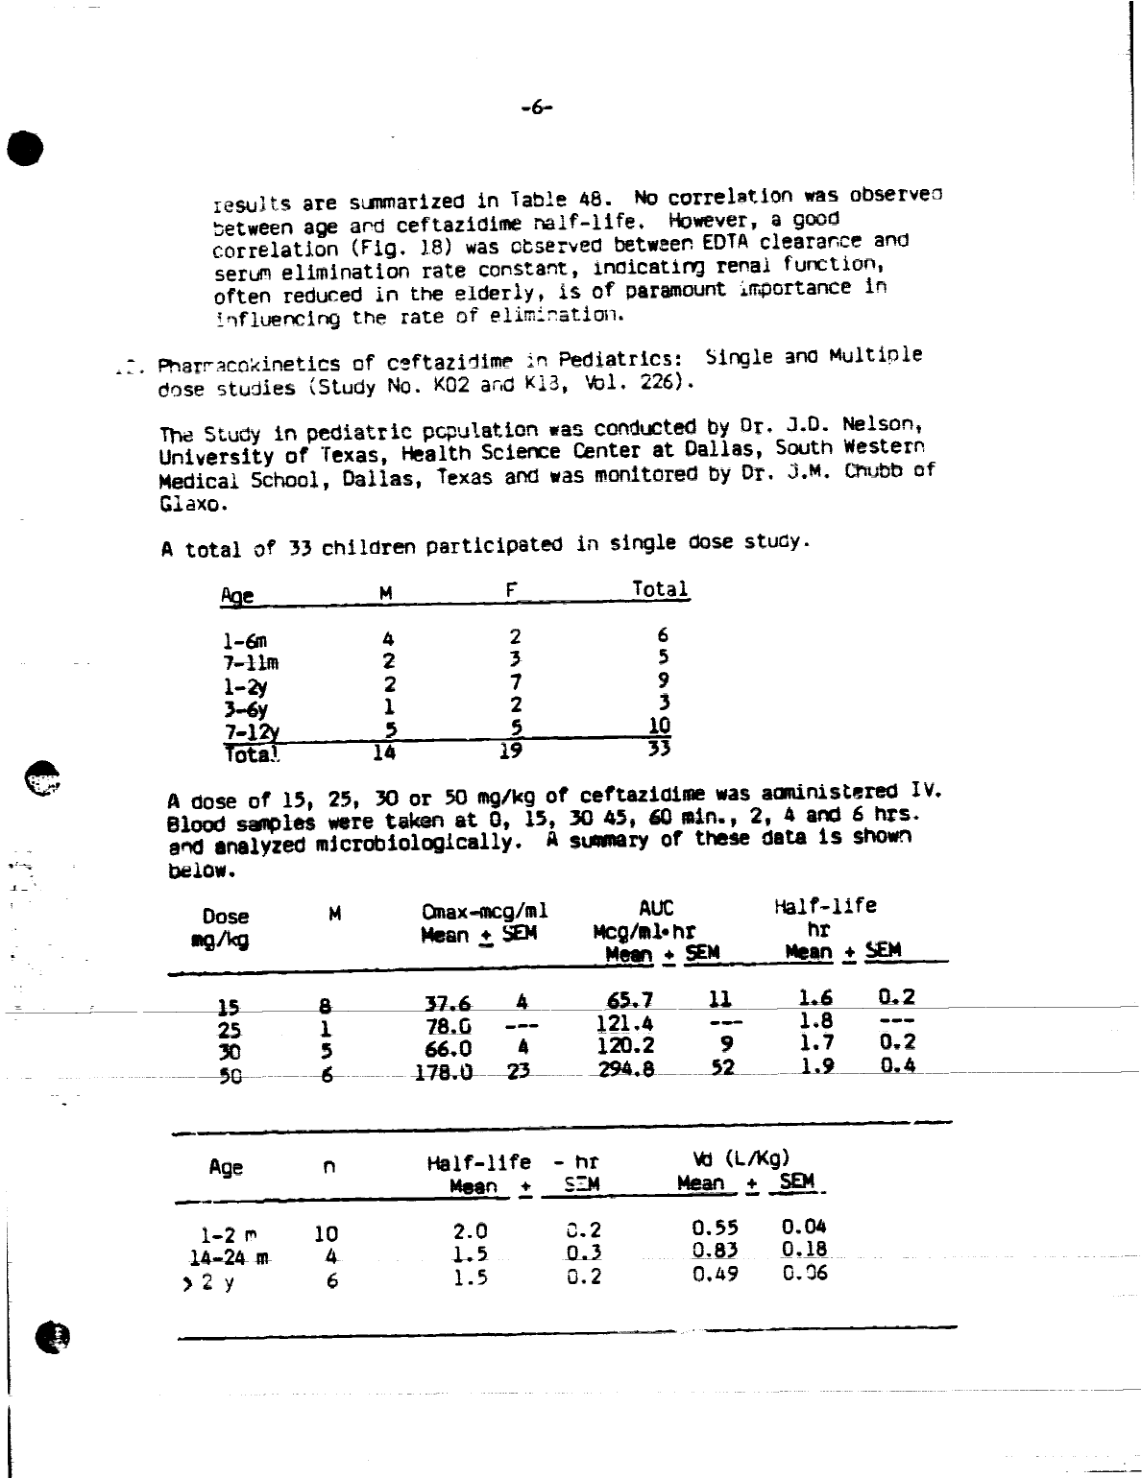partial_lined: (206, 572, 707, 766)
partial_lined_merged_cells: (162, 890, 946, 1092), (170, 1140, 841, 1303)
